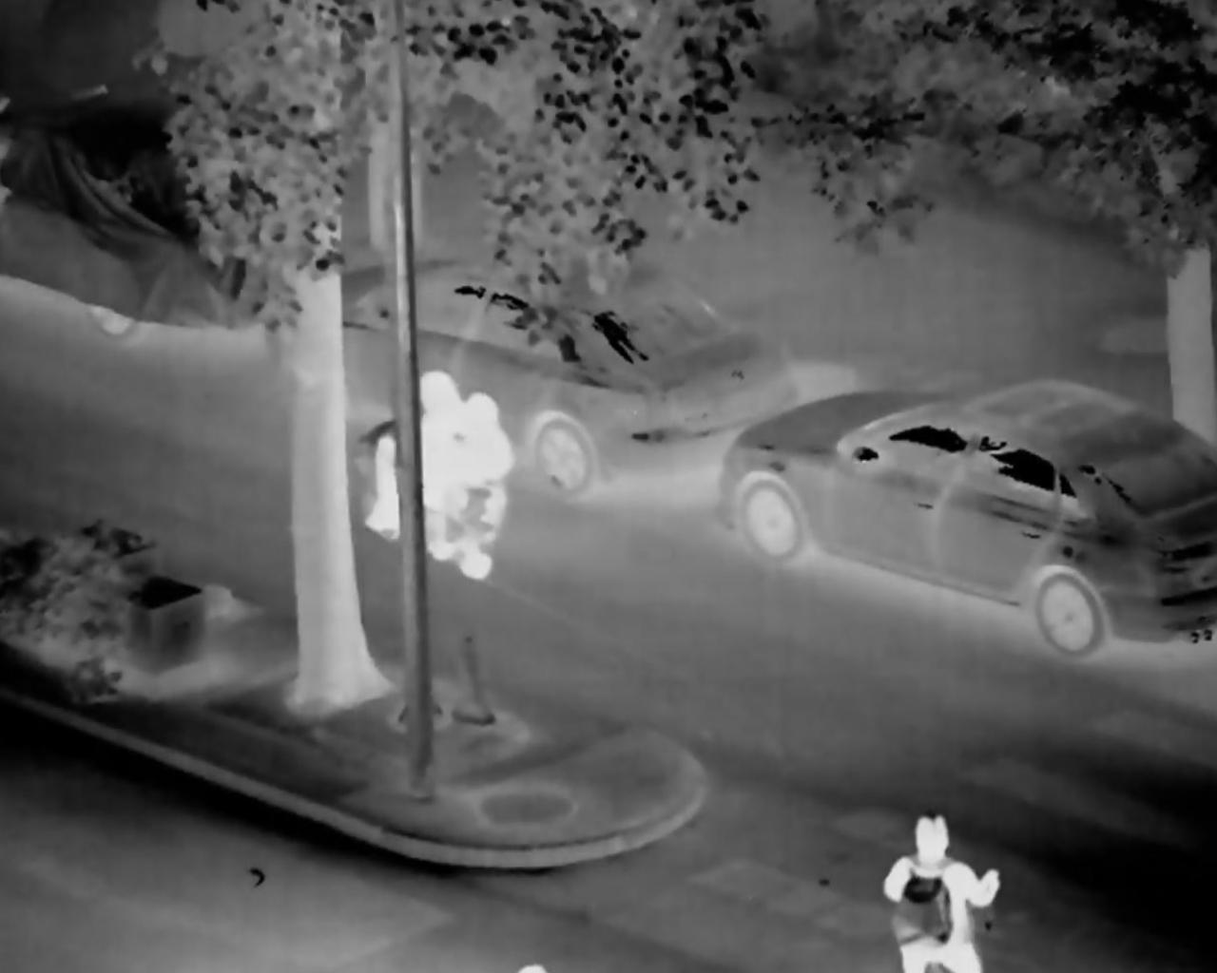person: (880, 812, 999, 973), (377, 368, 453, 560), (449, 389, 512, 578)
